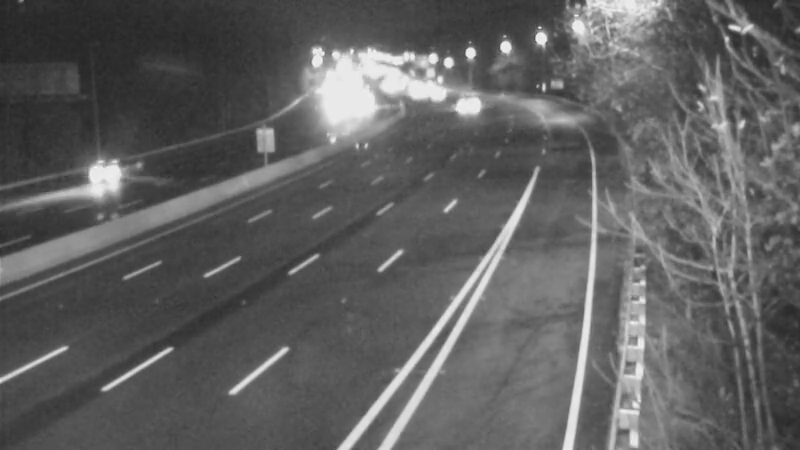vehicle: (67, 126, 147, 206), (441, 80, 491, 130)
